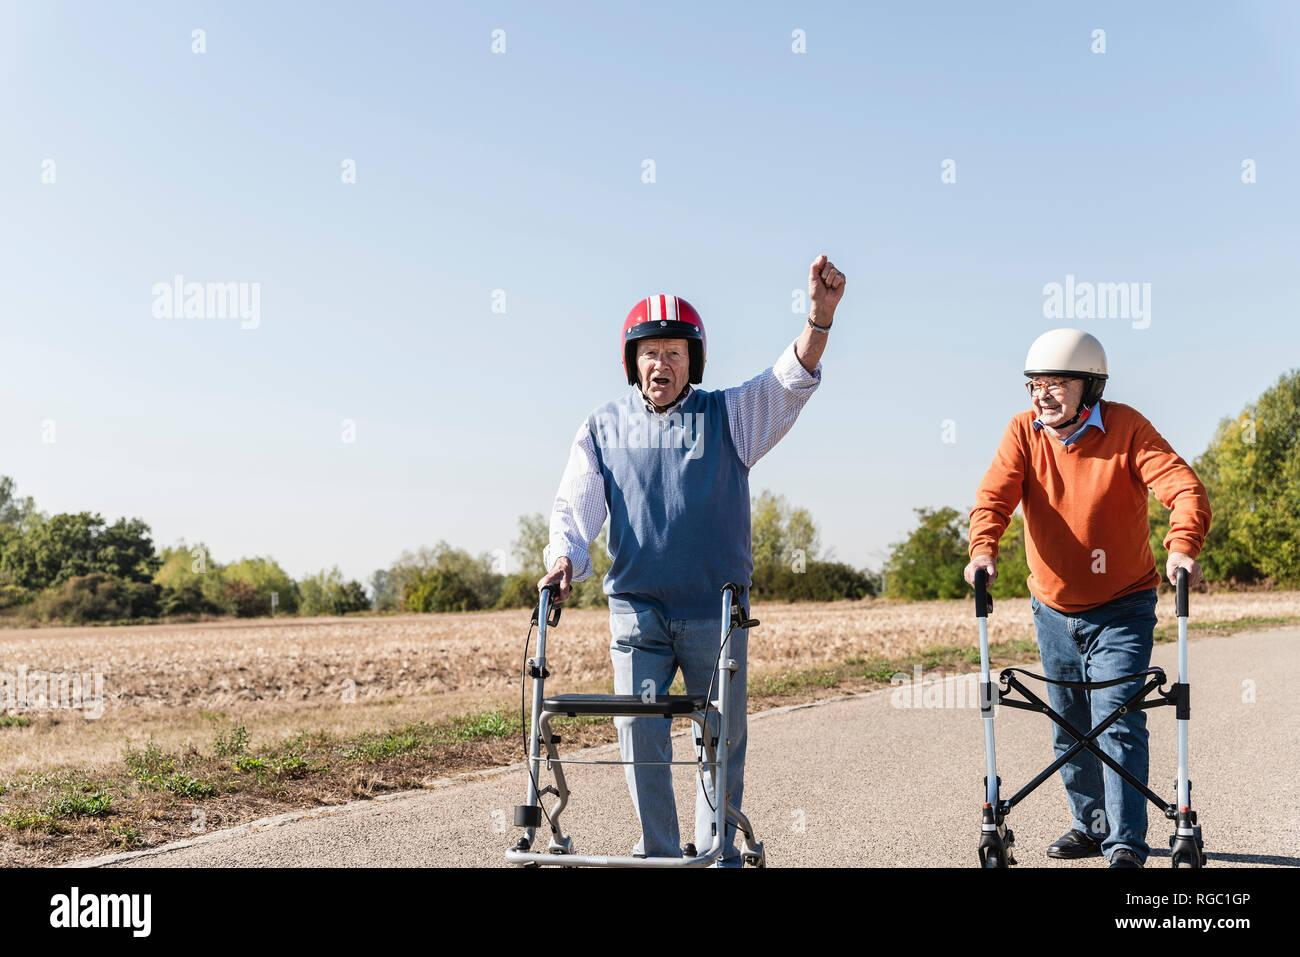walking_frame: (505, 253, 847, 867), (964, 328, 1212, 867)
